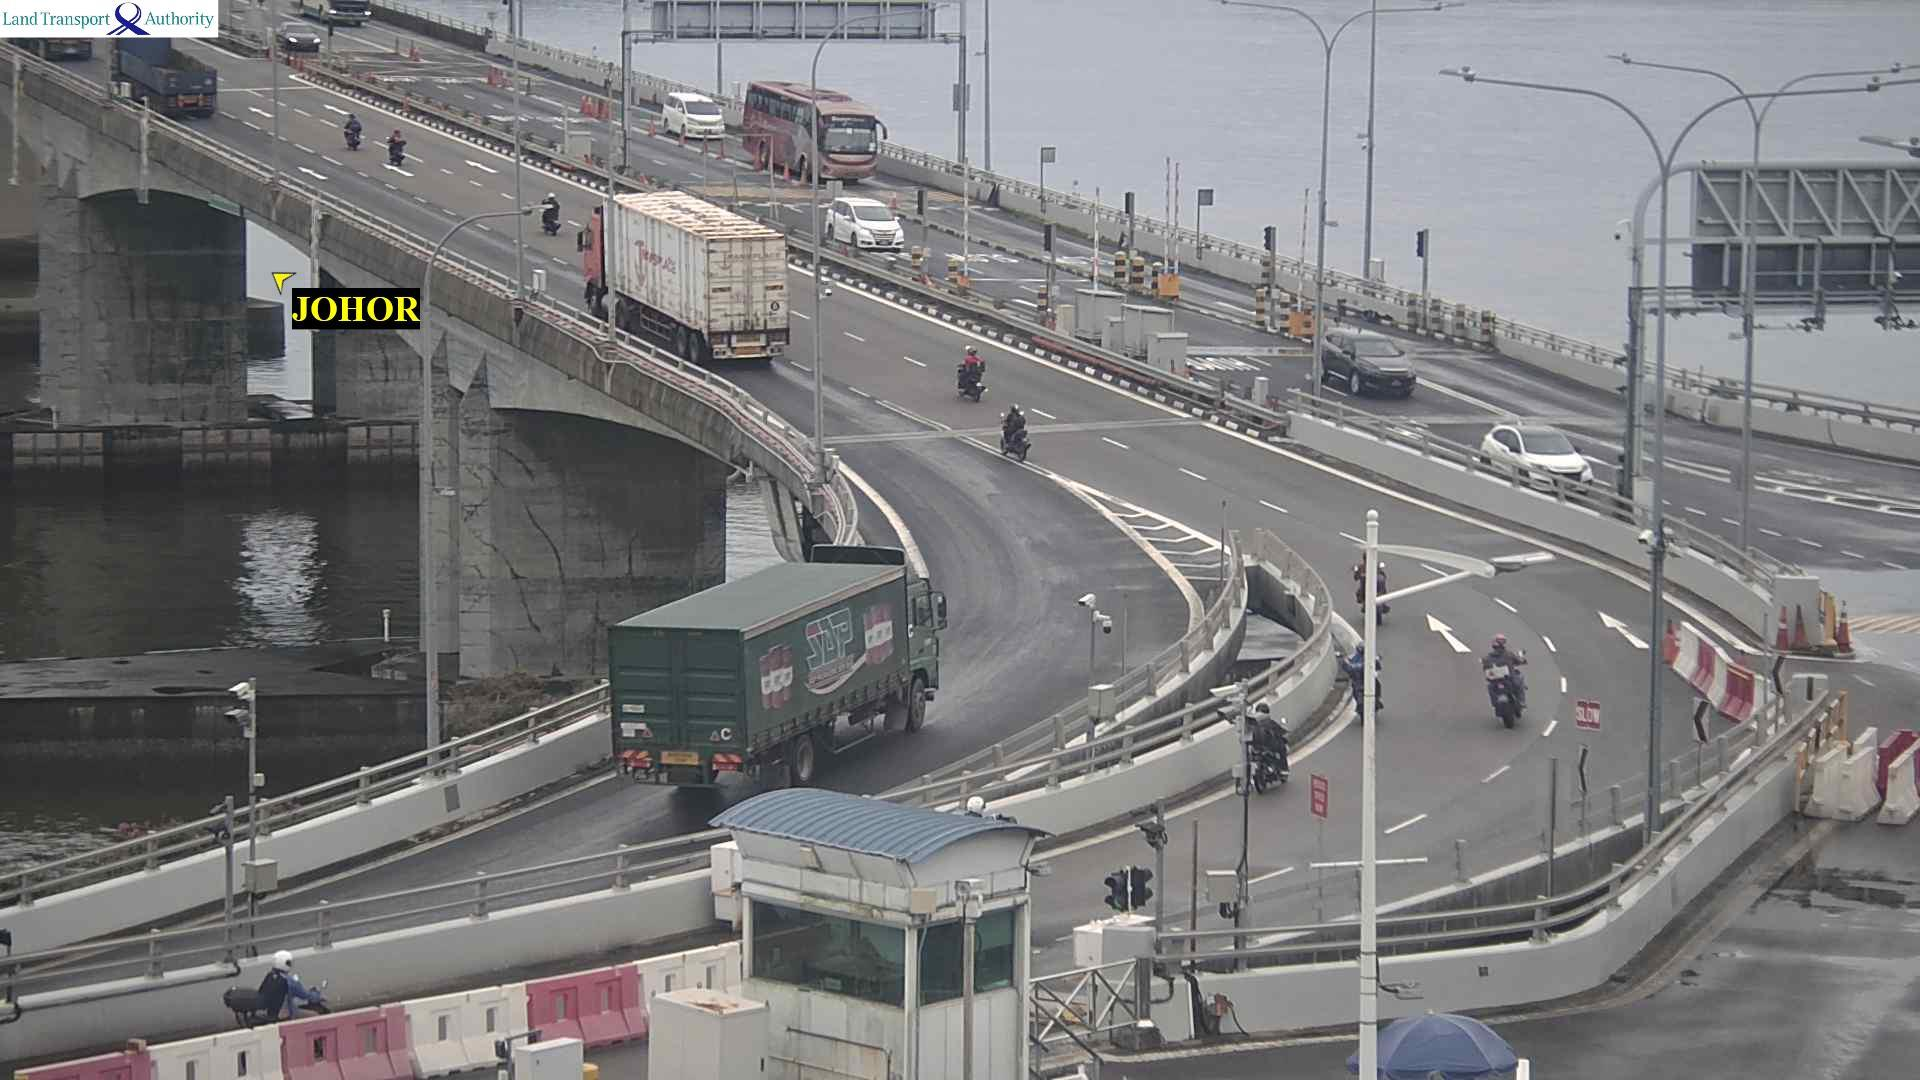vehicle-secondlink-johor: (607, 543, 944, 791), (580, 189, 787, 381), (111, 40, 218, 119), (224, 963, 327, 1029), (1245, 702, 1307, 790), (1481, 634, 1526, 723), (1344, 642, 1383, 715), (1352, 553, 1390, 621), (955, 347, 990, 400), (0, 38, 92, 58), (1000, 402, 1029, 462), (541, 193, 559, 232), (344, 113, 360, 146), (388, 129, 404, 162)
vehicle-secondlink-singapore: (748, 82, 891, 183), (1481, 425, 1593, 500), (1309, 332, 1412, 402), (827, 198, 905, 249), (662, 91, 724, 140), (285, 0, 371, 25), (276, 18, 319, 53)
